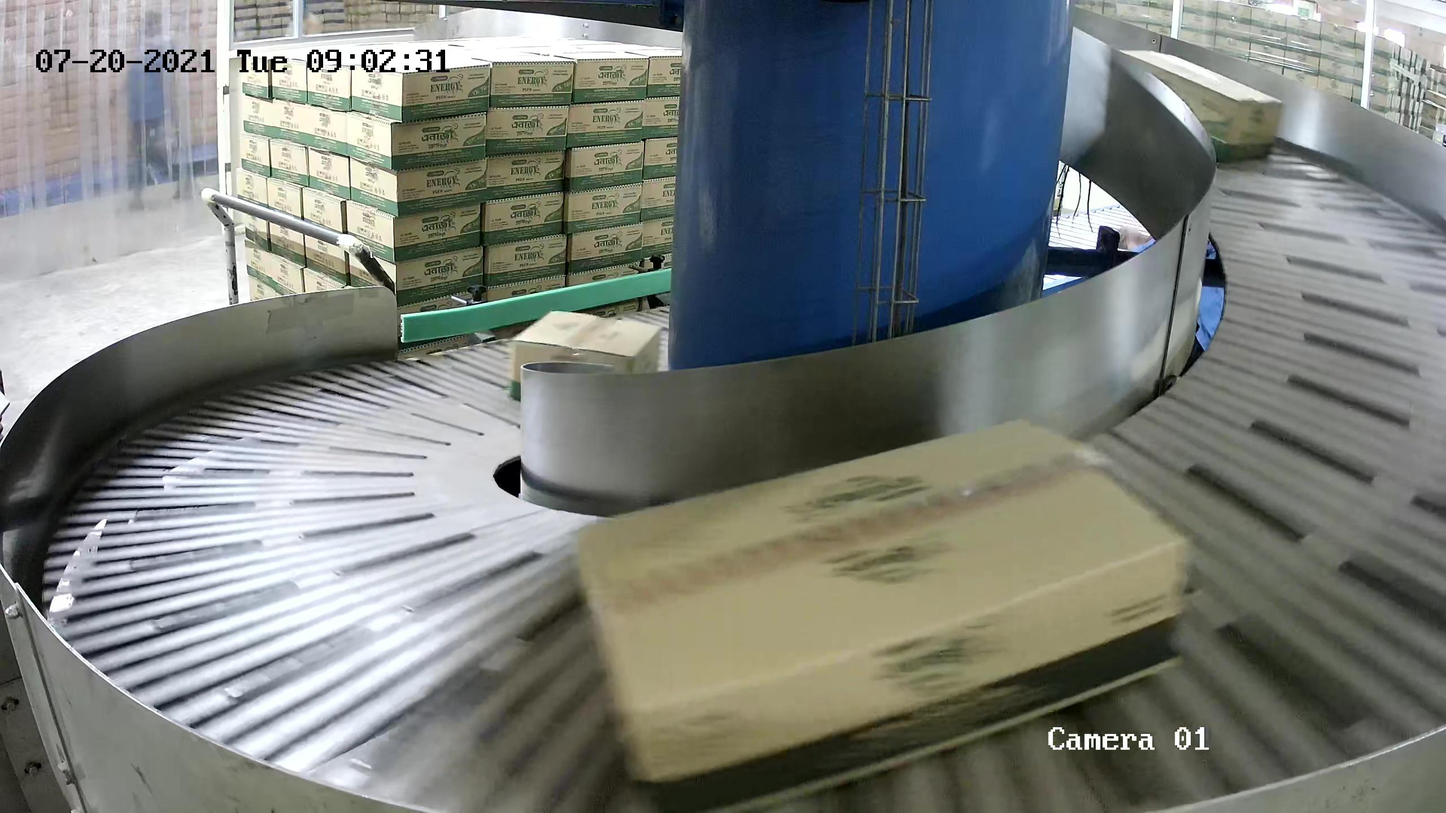Box: (569, 412, 1201, 813), (1110, 49, 1287, 165), (511, 309, 663, 413)
